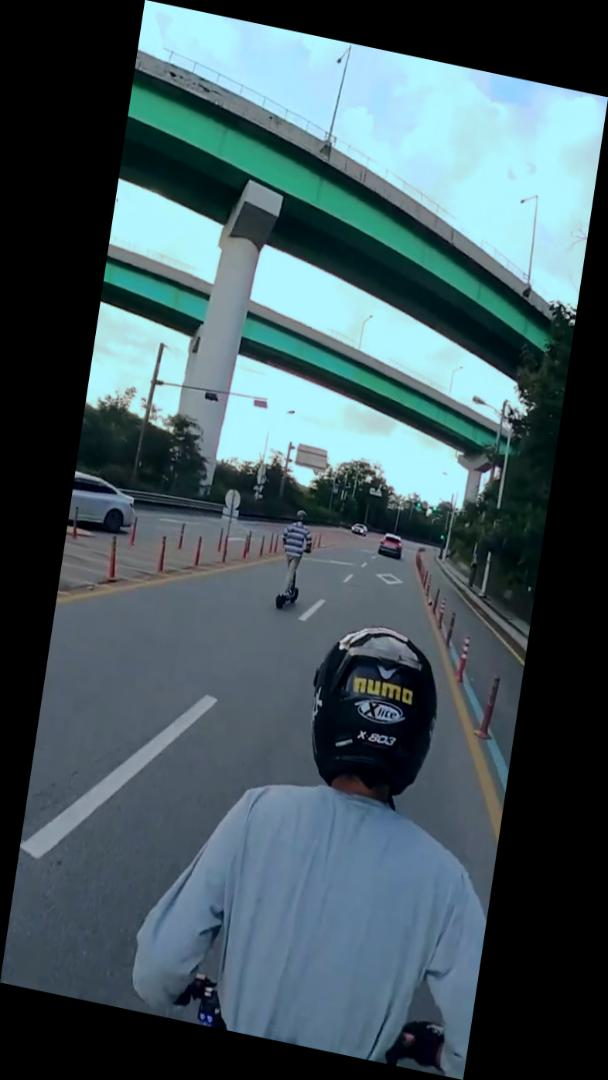helmet: (270, 503, 319, 618)
